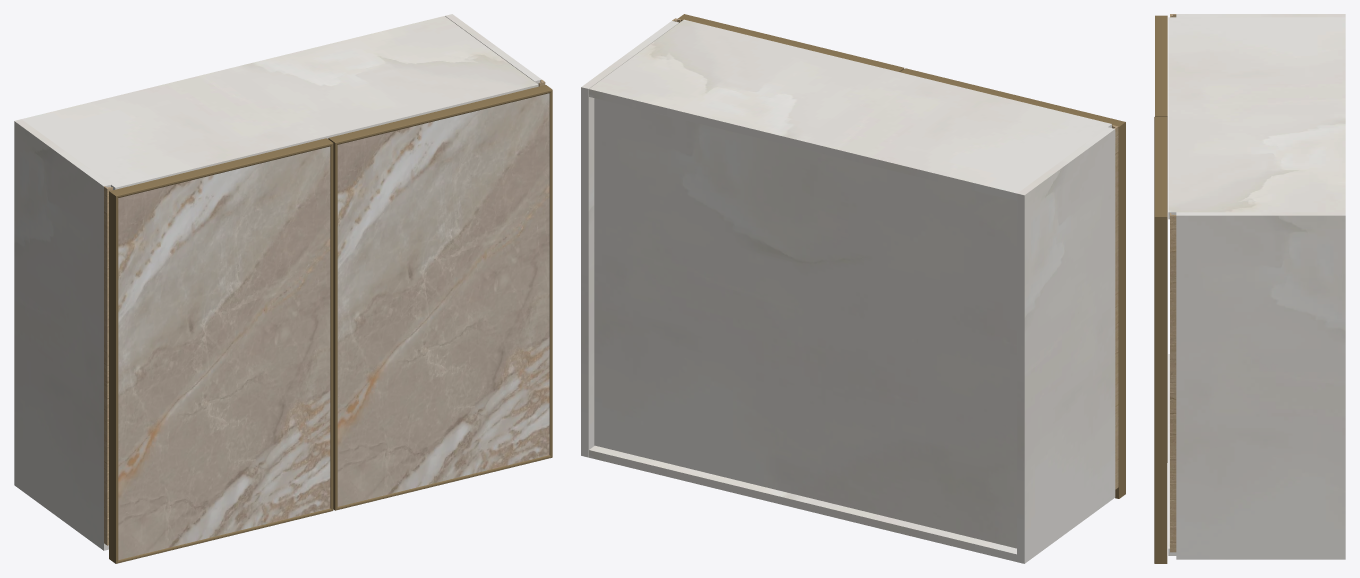
The model's file is WB-SH-NHX-ST-1SG-RHS-XXX-900-725-336-15.glb.
3 renders of one model, left to right at view 1: azimuth 30°, elevation 25°; view 2: azimuth 150°, elevation 25°; view 3: azimuth 270°, elevation 25°, orthographic. The views are drawn at different scales.
Visible parts, largest first — view 1: Object_node_6, Object_node_4, TP, TP_node_0, Extrusion_node_1, Extrusion, Extrusion_node_2, Extrusion_node_5, Object_node_8, Extrusion_node, Extrusion_node_3, Extrusion_node_4 (+2 smaller); view 2: TP_node_2, TP, TP_node_0, TP_node, TP_node_1, Extrusion_node_1, Object_node_8, Extrusion_node_2, Extrusion; view 3: TP_node_1, TP, Extrusion_node_3, Object_node_16, Extrusion_node_2, Extrusion, TP_node_0, TP_node, Extrusion_node.
Boxes of the visible parts, <box> form: Object_node_6: <box>337,93,549,506</box>; Object_node_4: <box>118,146,330,559</box>; TP: <box>22,16,538,189</box>; TP_node_0: <box>14,119,110,550</box>; Extrusion_node_1: <box>109,191,118,563</box>; Extrusion: <box>109,138,333,197</box>; Extrusion_node_2: <box>329,85,552,144</box>; Extrusion_node_5: <box>328,138,337,510</box>; Object_node_8: <box>104,186,112,545</box>; Extrusion_node: <box>330,144,333,510</box>; Extrusion_node_3: <box>549,90,552,456</box>; Extrusion_node_4: <box>335,455,552,510</box>; TP_node_2: <box>594,98,1016,548</box>; TP: <box>589,19,1111,200</box>; TP_node_0: <box>1017,127,1115,563</box>; TP_node: <box>589,445,1016,561</box>; TP_node_1: <box>581,21,678,457</box>; Extrusion_node_1: <box>1115,122,1125,498</box>; Object_node_8: <box>1112,125,1118,489</box>; Extrusion_node_2: <box>678,14,903,71</box>; Extrusion: <box>900,68,1125,126</box>; TP_node_1: <box>1176,212,1345,559</box>; TP: <box>1168,17,1345,219</box>; Extrusion_node_3: <box>1154,217,1167,563</box>; Object_node_16: <box>1170,213,1176,552</box>; Extrusion_node_2: <box>1154,116,1167,216</box>; Extrusion: <box>1155,15,1167,115</box>; TP_node_0: <box>1176,14,1345,17</box>; TP_node: <box>1168,354,1176,555</box>; Extrusion_node: <box>1155,116,1167,462</box>.
Size of what is drawn, in the model's own units: 0.9 by 0.725 by 0.3602.
Materials: 6 (3 with a texture image).
